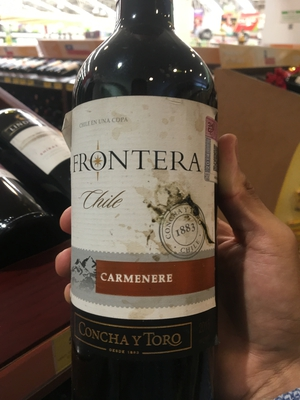frontera carmenere: (67, 16, 228, 400)
